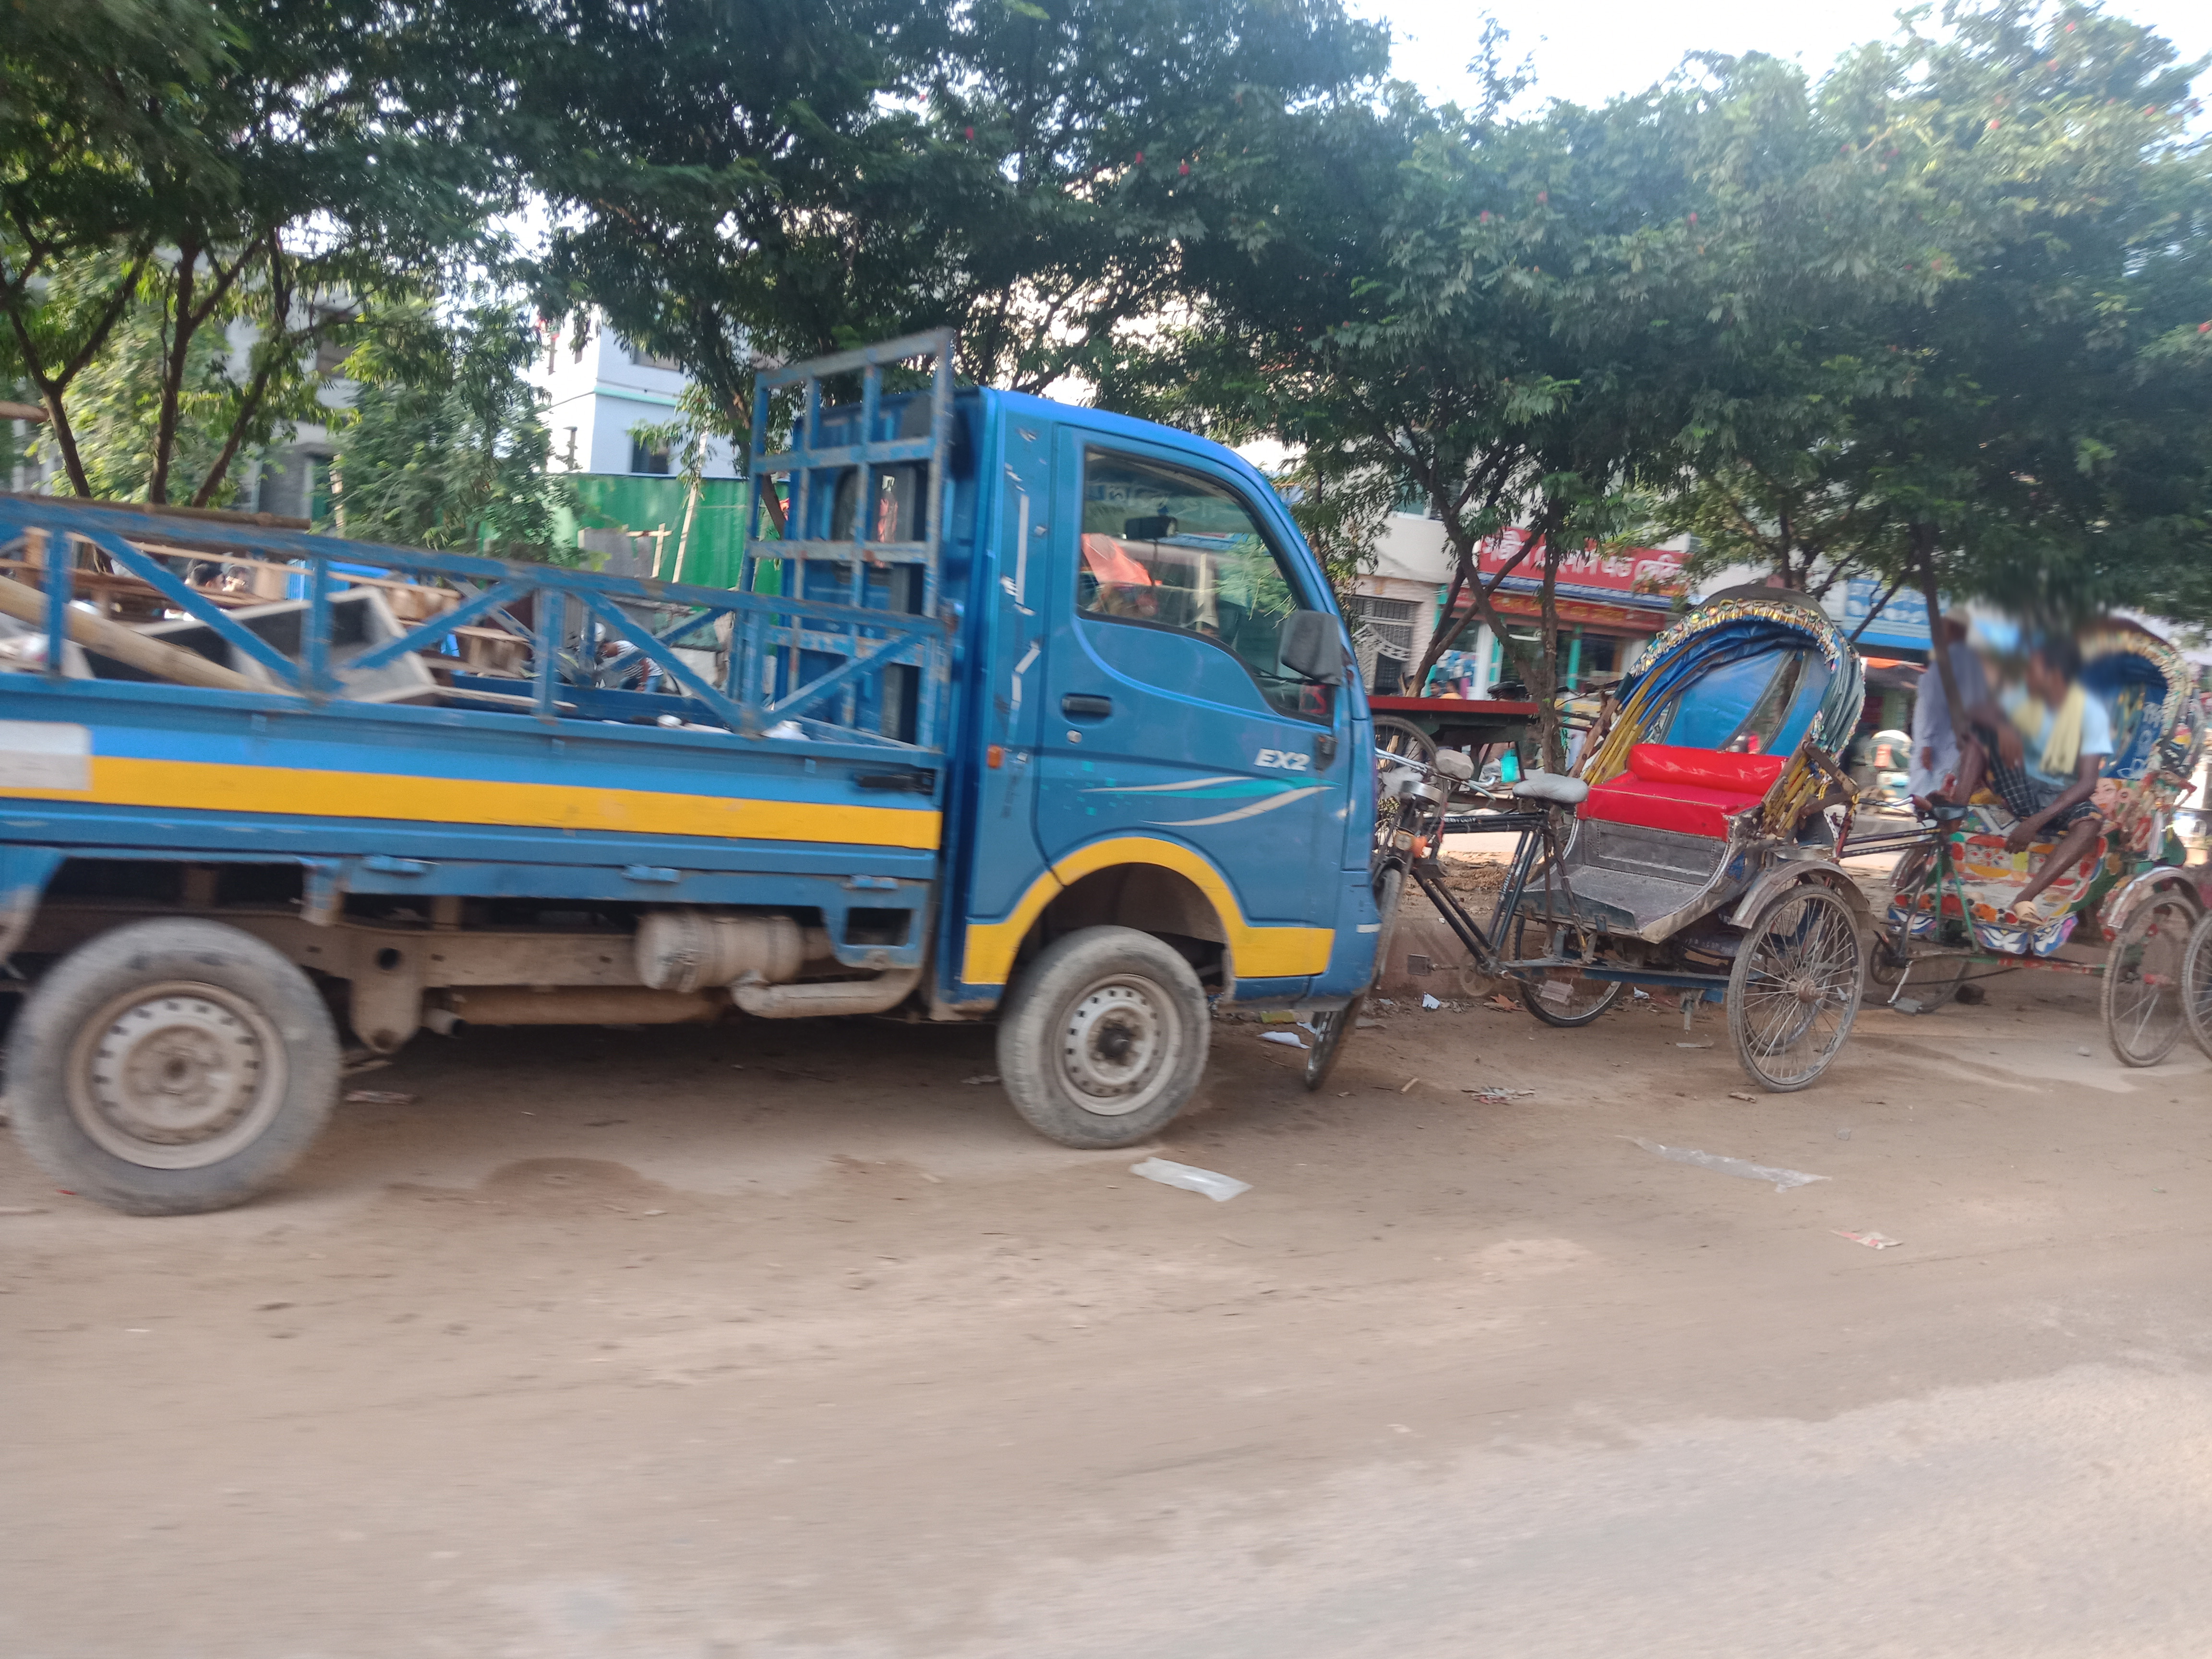rickshaw: (1310, 587, 1883, 1091), (1858, 620, 2207, 1075)
truck: (0, 328, 1397, 1218)
van: (1374, 657, 1585, 789)
